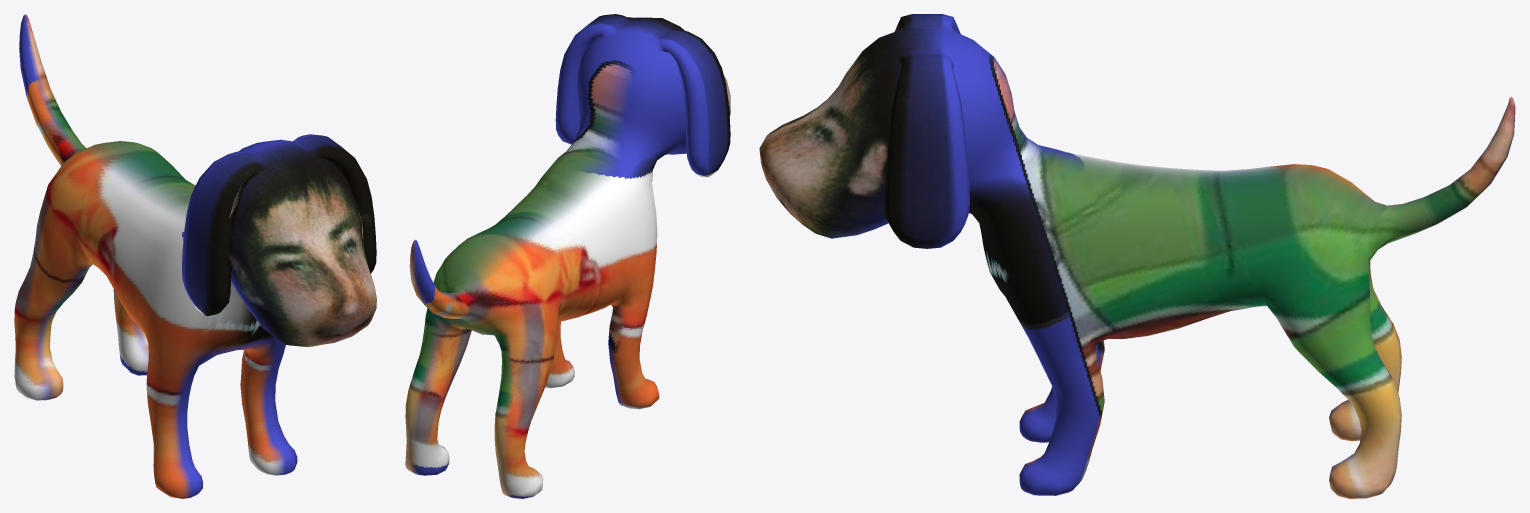
File: diem.fbx
The picture shows the model from 3 angles, left to right: view 1: azimuth 30°, elevation 25°; view 2: azimuth 150°, elevation 25°; view 3: azimuth 270°, elevation 25°; orthographic projection. The views are drawn at different scales.
Visible parts, largest first — view 1: root; view 2: root; view 3: root.
Part boxes in pixels (x1,y1,x2,y2): root: (14,14,376,498); root: (405,14,730,498); root: (759,14,1515,498).
Size of the model in its own units: 0.1103 by 0.2343 by 0.3753.
1 material, 1 textured.
